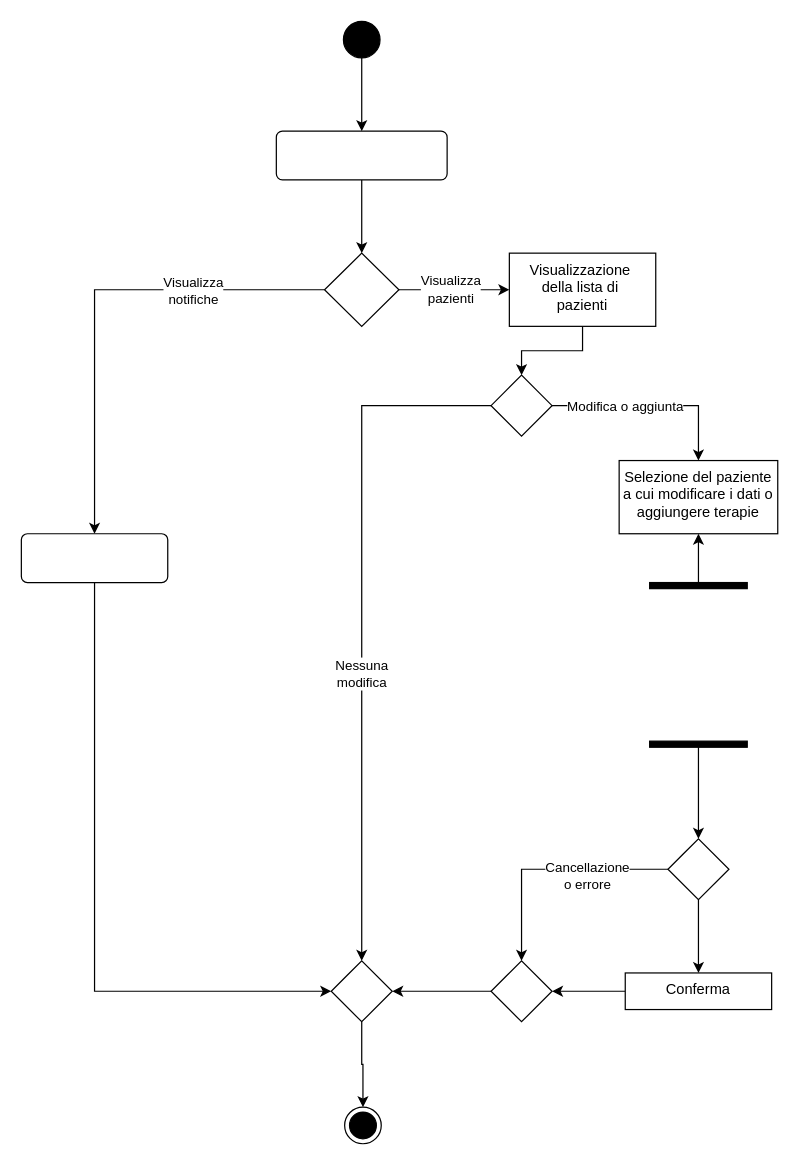
Some shapes in this 799 by 1165 pixel diagram are drawn without their labels. Each missing label, with the centre of its shape:
Visualizzazione notifiche: the point at 94,558
Visualizzazione pagina home: the point at 361,155
